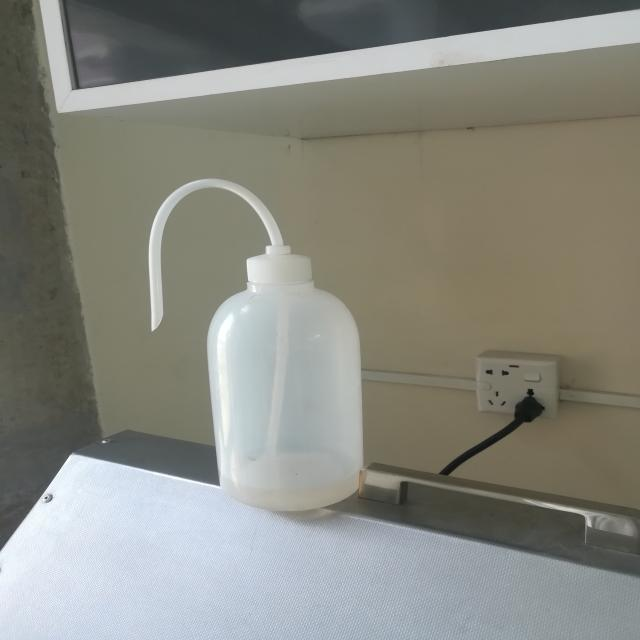Wash_Bottle: (121, 150, 402, 542)
